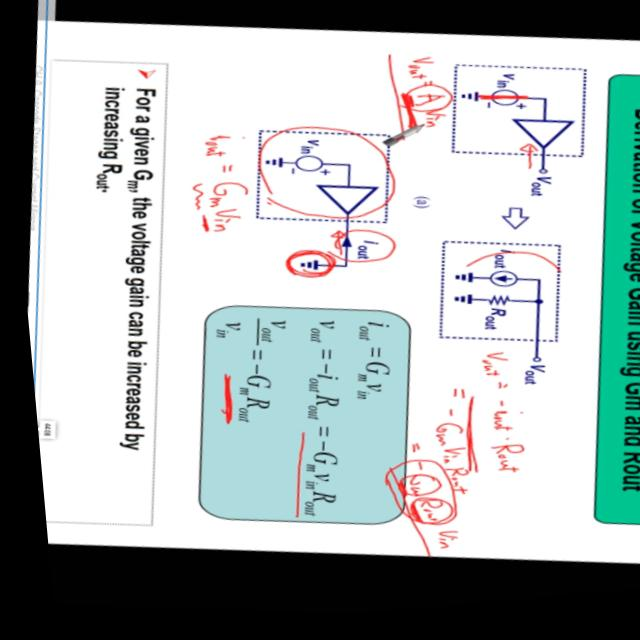panseo: (349, 335, 543, 578), (151, 102, 271, 275), (369, 47, 466, 155)
